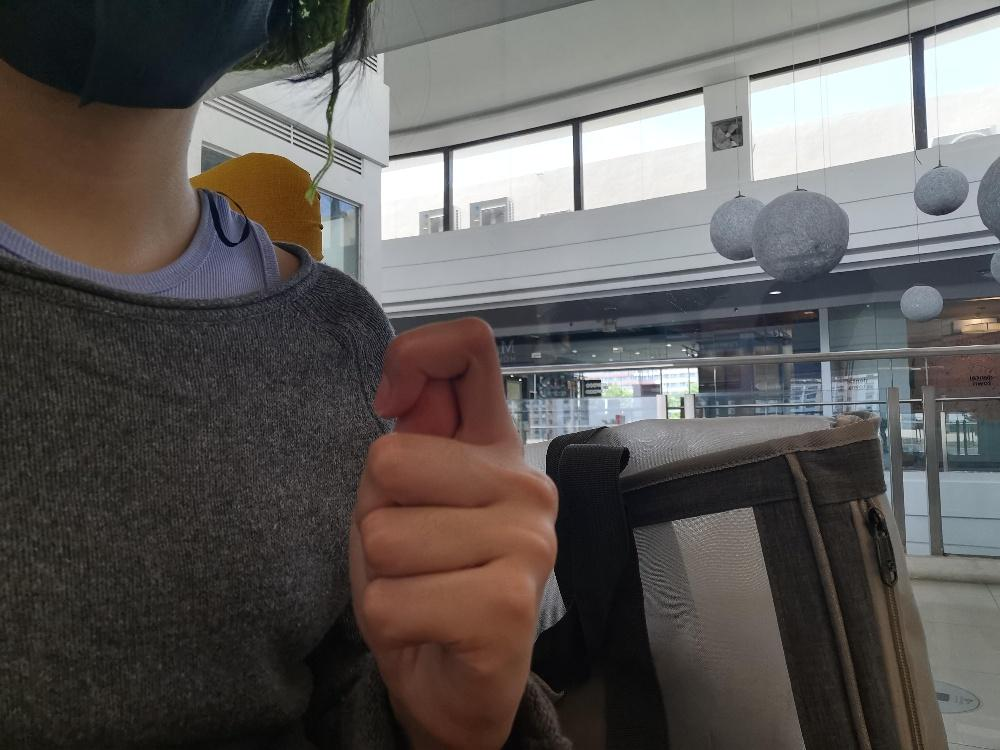t: (344, 313, 559, 749)
